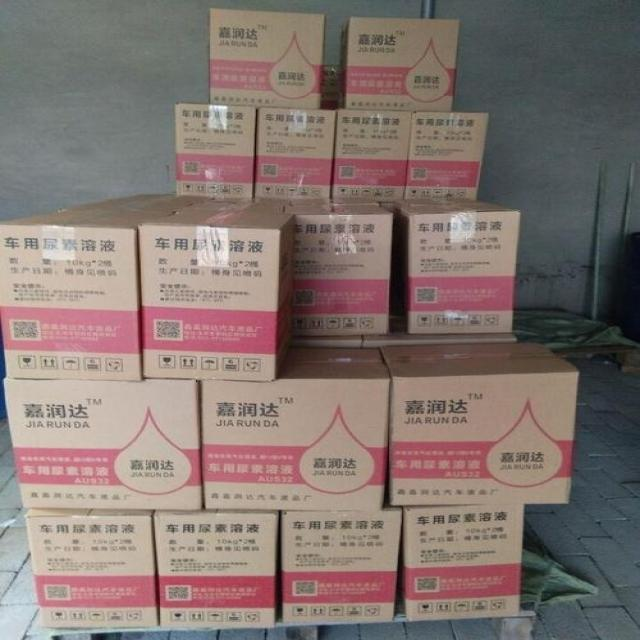box: (379, 343, 580, 505), (201, 346, 392, 510), (0, 208, 170, 381), (137, 210, 297, 382), (3, 378, 202, 510), (280, 488, 403, 622), (396, 202, 522, 332), (24, 509, 159, 627), (152, 510, 280, 628), (402, 505, 524, 622), (284, 205, 392, 336), (209, 7, 326, 110), (338, 16, 461, 112), (175, 102, 256, 199), (404, 111, 490, 201), (255, 107, 337, 200), (332, 109, 413, 199), (364, 319, 517, 348), (61, 193, 212, 213), (175, 201, 283, 214), (320, 64, 339, 108), (289, 337, 361, 348), (291, 198, 378, 205), (396, 200, 476, 206)
